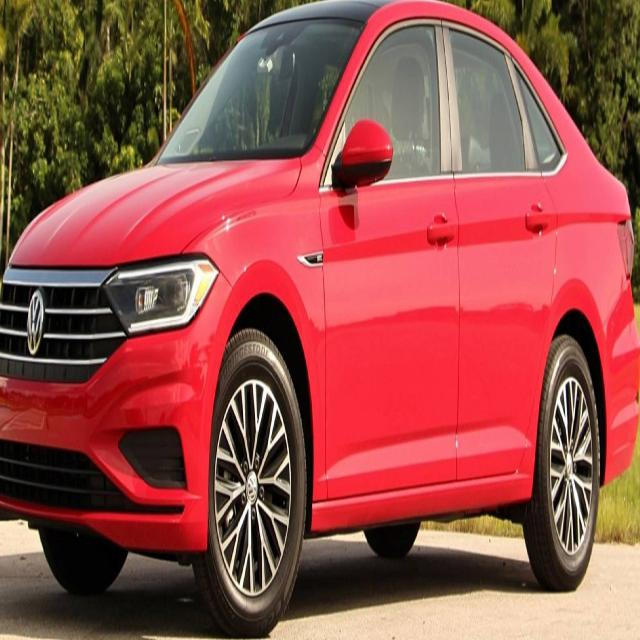red: (1, 18, 640, 546)
